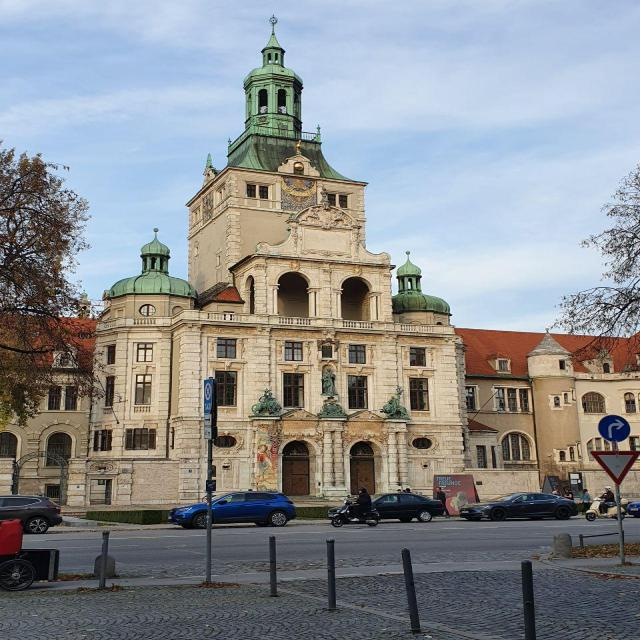road sign: (591, 452, 639, 484), (205, 439, 213, 584), (615, 482, 627, 563), (202, 377, 215, 438)
